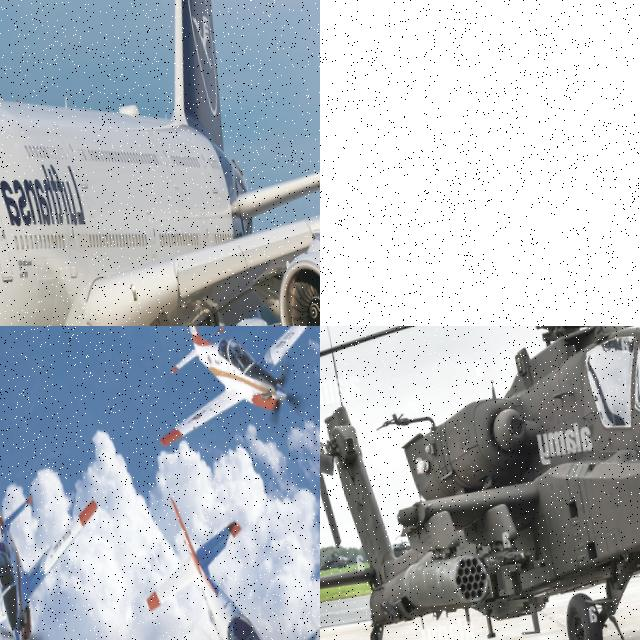A380: (0, 0, 320, 326)
Apache: (320, 326, 640, 640)
KT-1: (55, 466, 320, 640), (141, 326, 320, 461), (0, 472, 124, 640)
